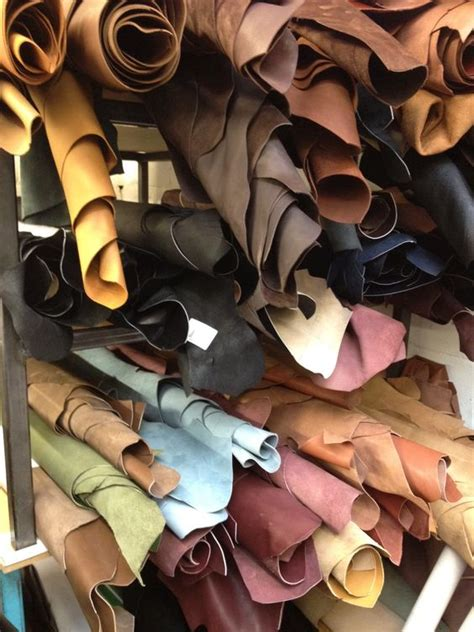cuero: (2, 1, 474, 632)
